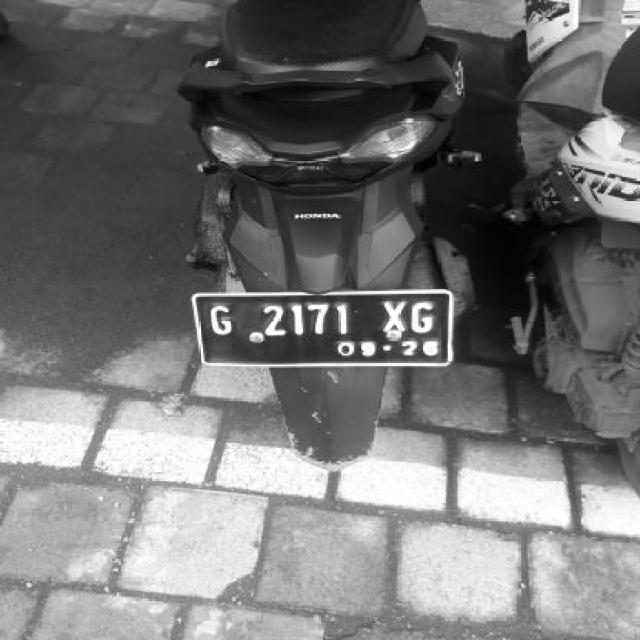1: (332, 302, 359, 340), (288, 302, 310, 343)
2: (260, 298, 288, 340)
7: (308, 300, 332, 340)
G: (205, 301, 241, 349), (408, 300, 442, 338)
X: (378, 298, 408, 340)
